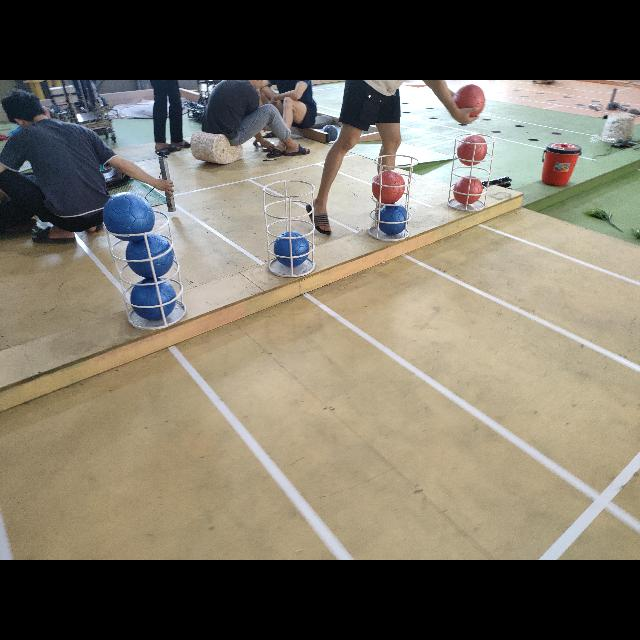B: (103, 192, 155, 242), (126, 236, 172, 278), (130, 280, 176, 320), (274, 231, 310, 267), (377, 204, 409, 236)
R: (371, 170, 405, 204), (458, 135, 488, 165), (453, 176, 483, 204)
